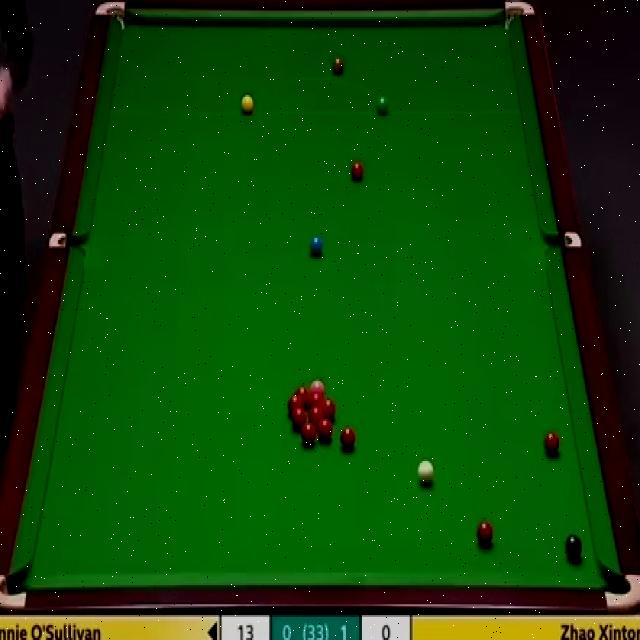black-ball: (566, 538, 584, 564)
blue-ball: (308, 234, 324, 258)
brown-ball: (331, 57, 344, 78)
green-ball: (375, 96, 391, 118)
pink-ball: (310, 380, 325, 392)
red-ball: (544, 432, 562, 460), (315, 417, 332, 443), (478, 520, 493, 546), (288, 396, 304, 418), (339, 428, 354, 451), (302, 418, 315, 440), (322, 400, 336, 420), (350, 162, 364, 182), (291, 411, 306, 429), (309, 390, 321, 408), (296, 387, 310, 402), (310, 405, 324, 420)
white-ball: (417, 461, 434, 483)
yellow-ball: (241, 94, 254, 116)
